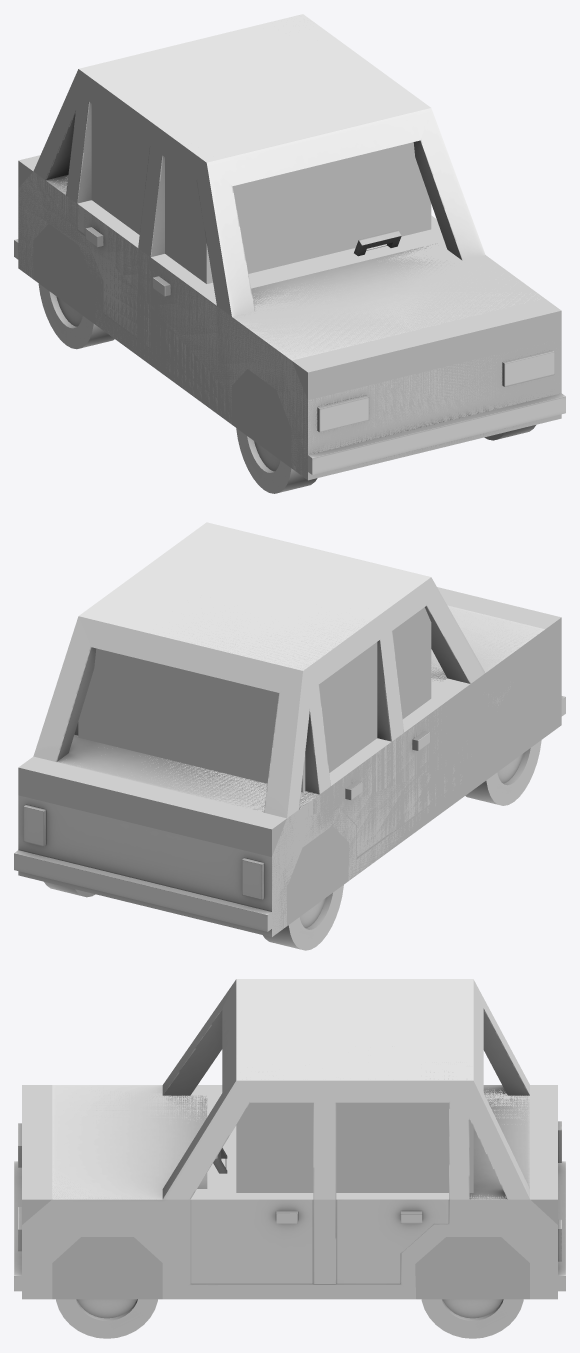
File: car.glb
3 views of the same model, one above another, from view 1: azimuth 30°, elevation 25°; view 2: azimuth 150°, elevation 25°; view 3: azimuth 270°, elevation 25° (orthographic). The views are drawn at different scales.
Visible parts, largest first — view 1: body, Cube.006, Cube.002, door_4, door_2, wheel_fr, wheel, Steering wheel; view 2: body, Cube.006, Cube.002, door_4, wheel, wheel_fr, door_2; view 3: body, Cube.006, Cube.002, door_1, door_3, Cylinder.001, wheel_fl.
Part boxes in pixels (bbox=[...]): body: bbox=[14, 14, 565, 478]; Cube.006: bbox=[18, 155, 561, 480]; Cube.002: bbox=[91, 15, 431, 283]; door_4: bbox=[77, 204, 138, 338]; door_2: bbox=[152, 260, 216, 396]; wheel_fr: bbox=[236, 428, 317, 493]; wheel: bbox=[38, 283, 114, 349]; Steering wheel: bbox=[354, 230, 401, 256]; body: bbox=[14, 522, 565, 937]; Cube.006: bbox=[18, 587, 561, 930]; Cube.002: bbox=[78, 607, 431, 792]; door_4: bbox=[333, 743, 391, 857]; wheel: bbox=[263, 885, 343, 950]; wheel_fr: bbox=[465, 740, 541, 805]; door_2: bbox=[404, 708, 462, 822]; body: bbox=[14, 979, 565, 1299]; Cube.006: bbox=[22, 1085, 557, 1299]; Cube.002: bbox=[236, 1046, 473, 1192]; door_1: bbox=[190, 1199, 313, 1283]; door_3: bbox=[336, 1199, 448, 1283]; Cylinder.001: bbox=[421, 1299, 523, 1338]; wheel_fl: bbox=[56, 1299, 157, 1338].
Bounding box in the file's own units: 1.28 × 1.26 × 2.49.
2 materials, 2 textured.
